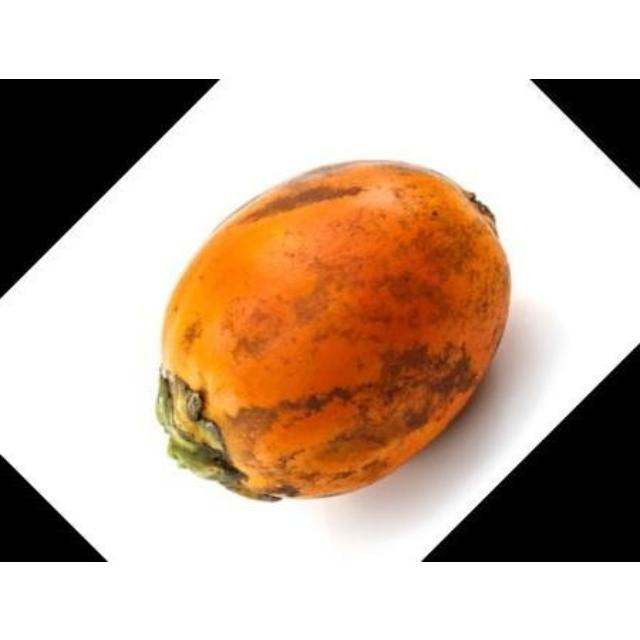good: (152, 159, 511, 503)
